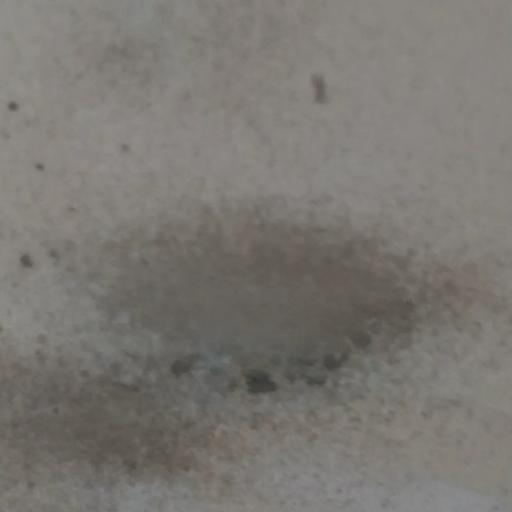stain: (26, 128, 512, 509)
